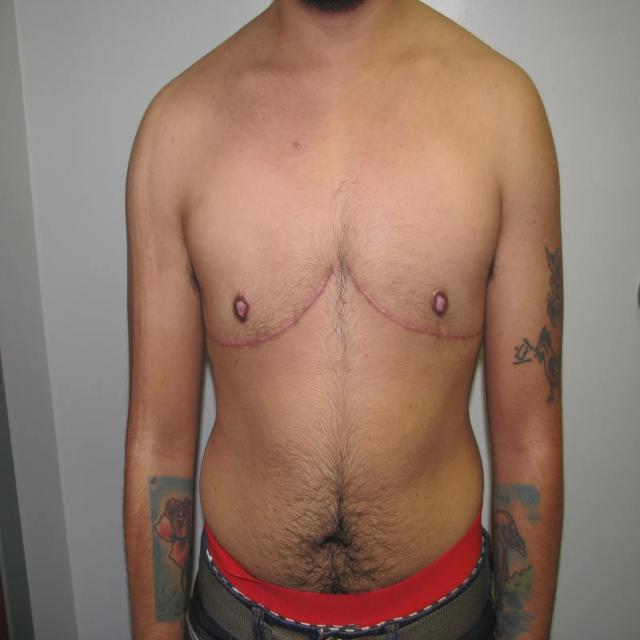Seno herido: (185, 197, 335, 362), (346, 196, 482, 367)
